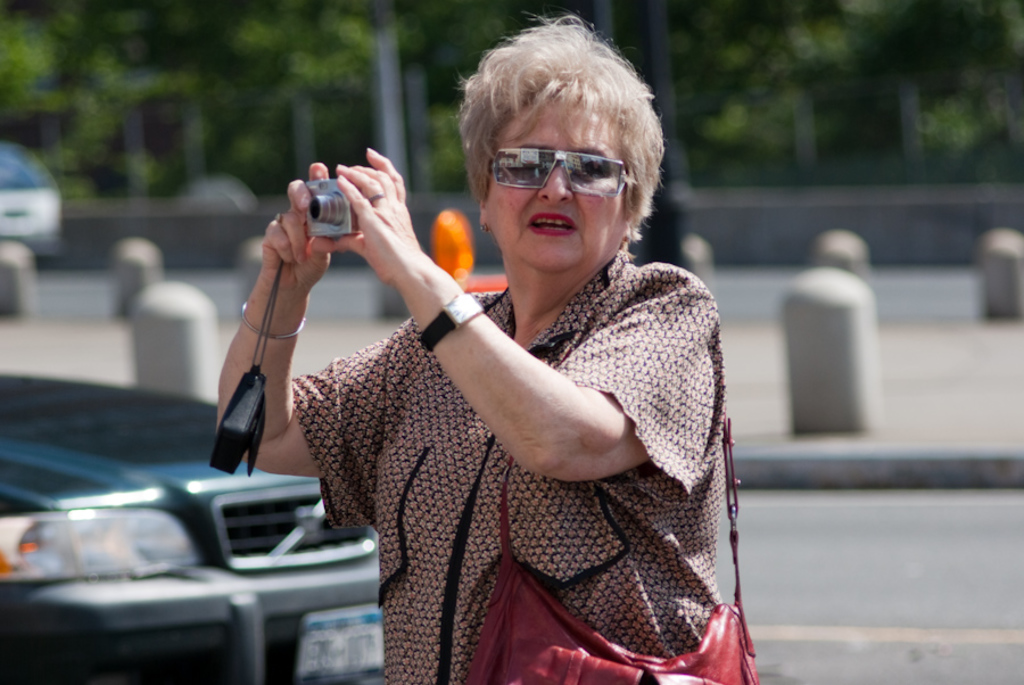Car: (0, 366, 383, 683), (0, 142, 60, 259)
